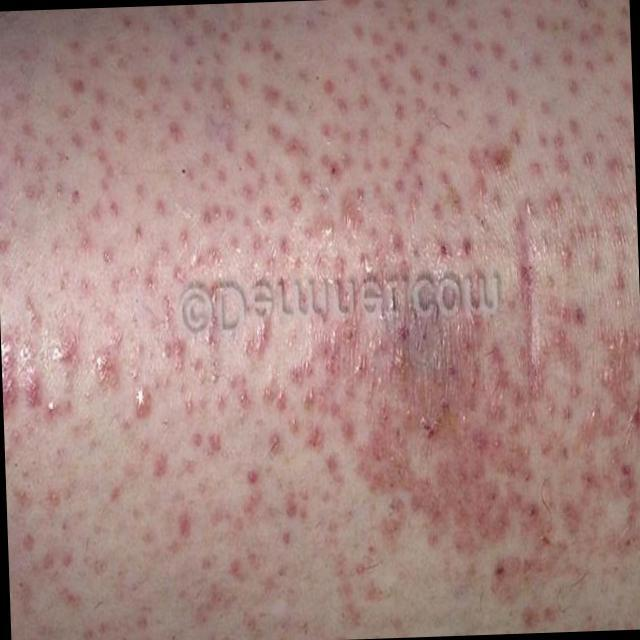Eczema: (23, 13, 640, 624)
